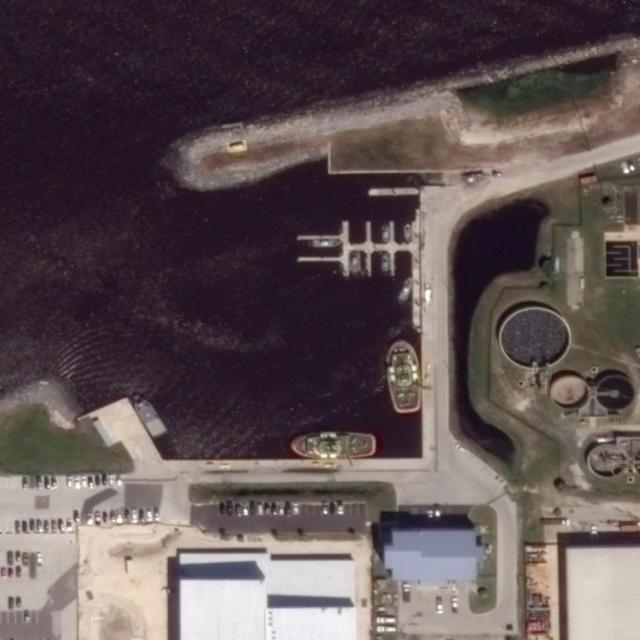Hovercraft: (380, 337, 427, 414), (288, 431, 380, 458)
